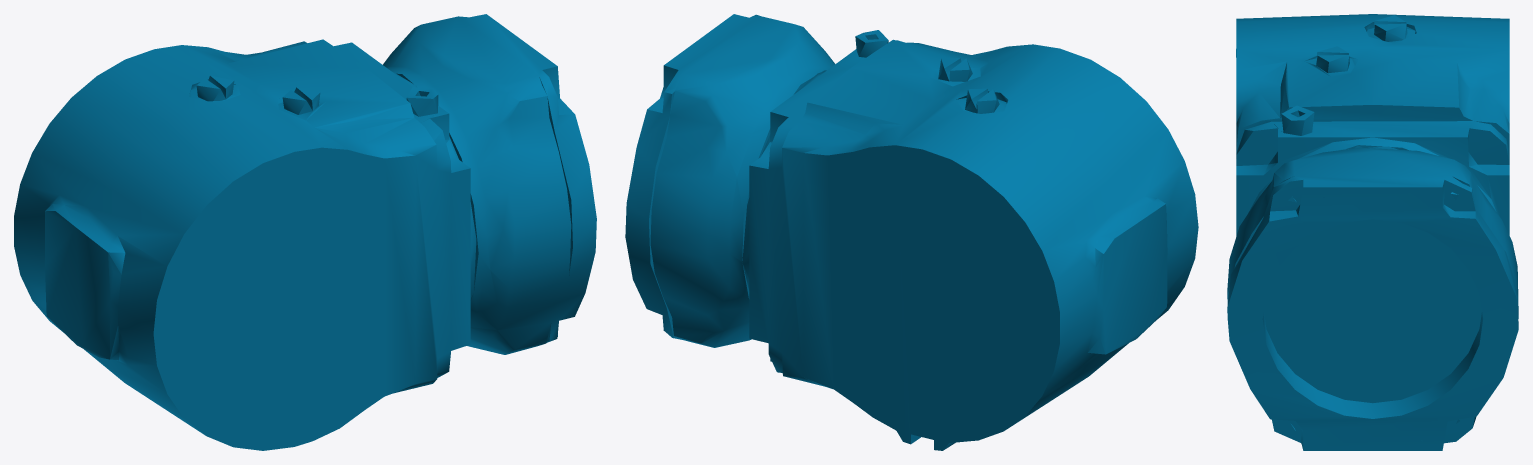
3 renders of one model, left to right at view 1: azimuth 30°, elevation 25°; view 2: azimuth 150°, elevation 25°; view 3: azimuth 270°, elevation 25°, orthographic. The views are drawn at different scales.
Visible parts, largest first — view 1: gp8l_lk5; view 2: gp8l_lk5; view 3: gp8l_lk5.
Part boxes in pixels (left/top/right/bottom): gp8l_lk5: left=14, top=14, right=596, bottom=450; gp8l_lk5: left=625, top=14, right=1198, bottom=450; gp8l_lk5: left=1227, top=14, right=1518, bottom=450.
Bounding box in the file's own units: 0.1141 × 0.0661 × 0.0779.
